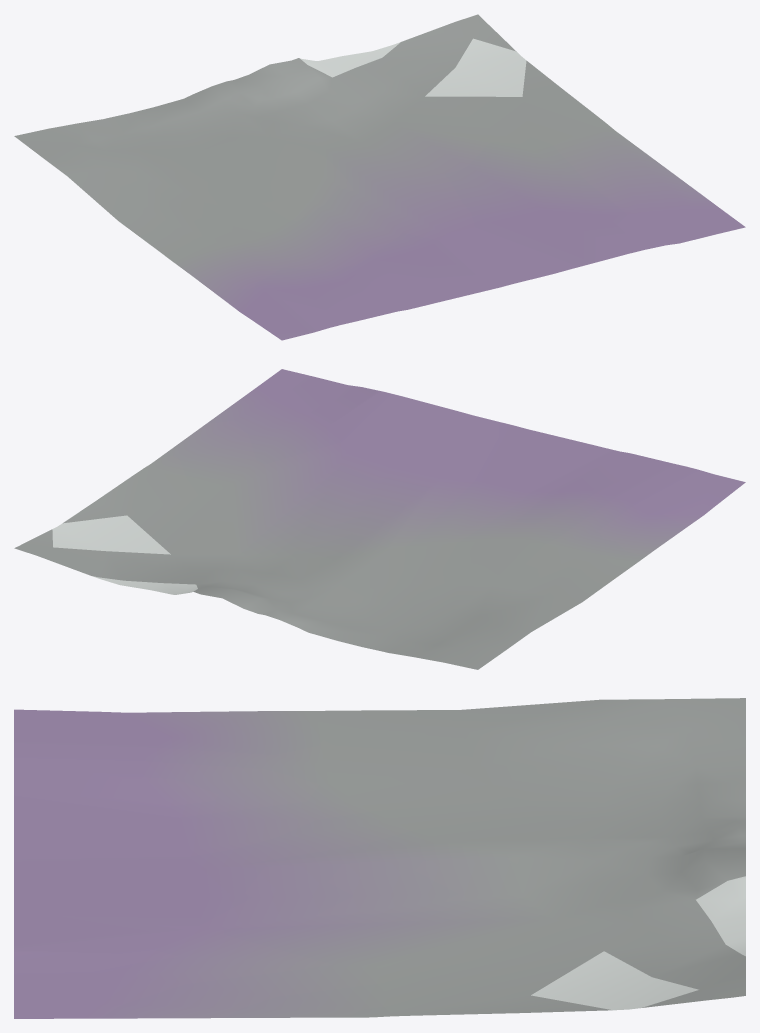
3 renders of one model, top to bottom at view 1: azimuth 30°, elevation 25°; view 2: azimuth 150°, elevation 25°; view 3: azimuth 270°, elevation 25°, orthographic. The views are drawn at different scales.
Visible parts, largest first — view 1: G:\FFXIV-MapTools\exports\m5f1\bg\ex4\02_mid_m5\fld\m5f1\bgp (×3); view 2: G:\FFXIV-MapTools\exports\m5f1\bg\ex4\02_mid_m5\fld\m5f1\bgp (×3); view 3: G:\FFXIV-MapTools\exports\m5f1\bg\ex4\02_mid_m5\fld\m5f1\bgp (×3).
Part boxes in pixels (left/top/right/bottom): G:\FFXIV-MapTools\exports\m5f1\bg\ex4\02_mid_m5\fld\m5f1\bgp (×3): left=14, top=14, right=745, bottom=340; G:\FFXIV-MapTools\exports\m5f1\bg\ex4\02_mid_m5\fld\m5f1\bgp (×3): left=14, top=369, right=745, bottom=669; G:\FFXIV-MapTools\exports\m5f1\bg\ex4\02_mid_m5\fld\m5f1\bgp (×3): left=14, top=698, right=745, bottom=1018.
Bounding box in the file's own units: 128 × 5.67 × 128.
